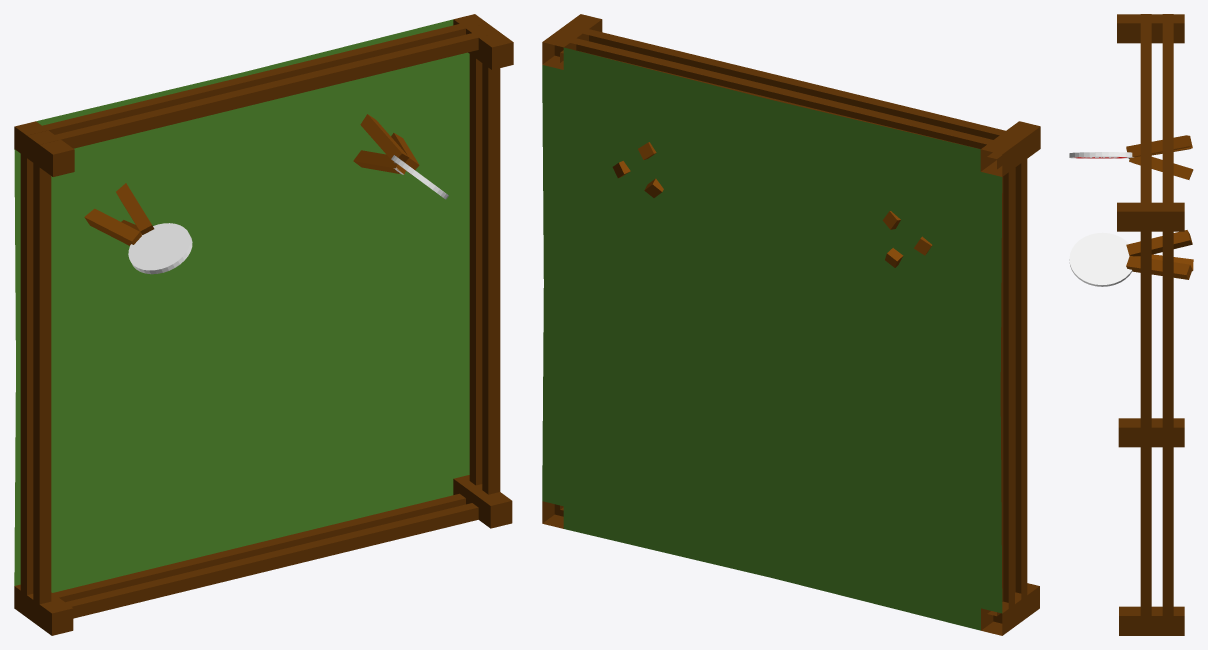
Rendered from Лагерь2Origin.fbx.
3 renders of one model, left to right at view 1: azimuth 30°, elevation 25°; view 2: azimuth 150°, elevation 25°; view 3: azimuth 270°, elevation 25°, orthographic. The views are drawn at different scales.
Visible parts, largest first — view 1: Лагерь2; view 2: Лагерь2; view 3: Лагерь2.
Boxes of the visible parts, box(x1,y1,x2,y2) form: Лагерь2: box(14, 14, 513, 635); Лагерь2: box(542, 14, 1040, 635); Лагерь2: box(1069, 14, 1193, 635).
Size of the model in its own units: 2 by 2 by 0.5303.
